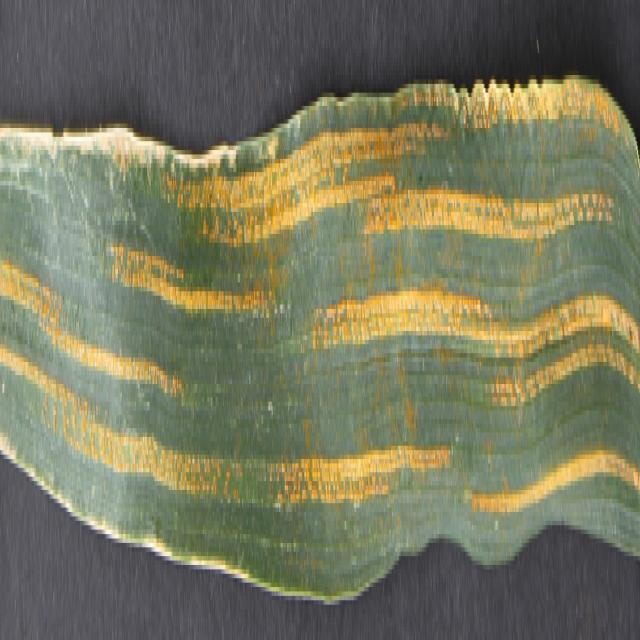leaf rust: (0, 48, 640, 551)
